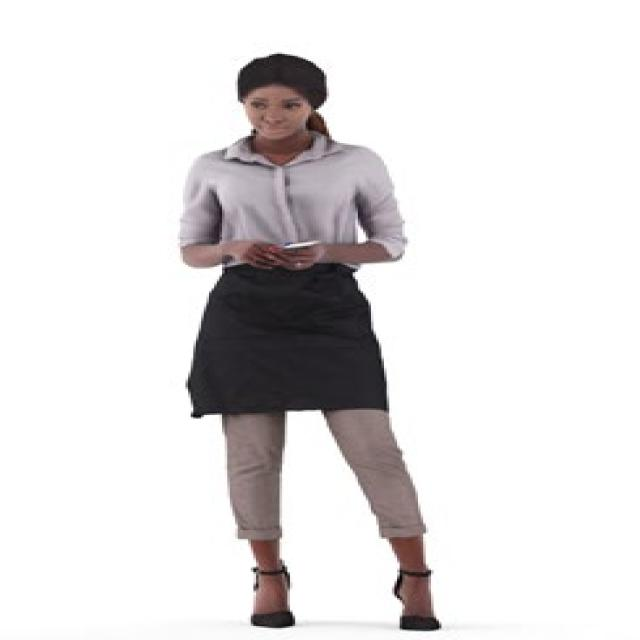standing: (172, 49, 454, 636)
